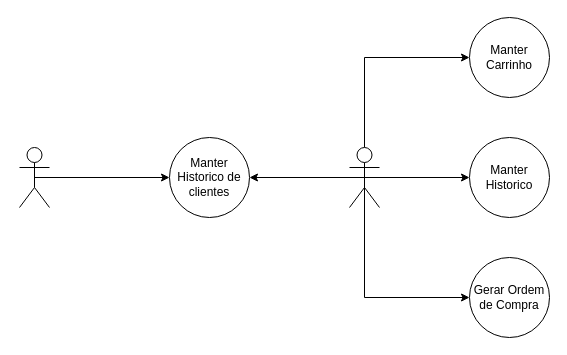
The diagram is 567 pixels wide and 355 high, and some of its shapes have lost their labels. Each missing label, with the centre of its shape:
"Admin" goes at (x=34, y=177).
"Cliente" goes at (x=364, y=177).
